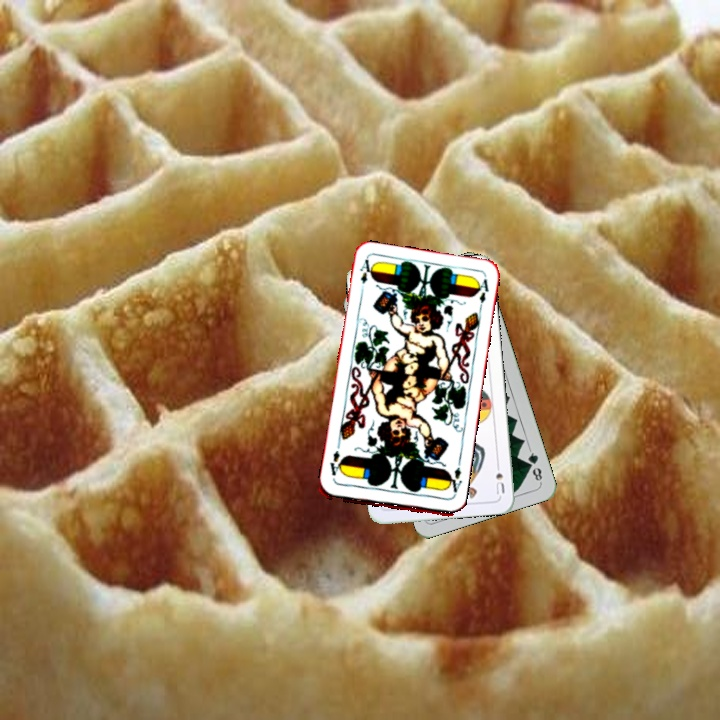EA: (443, 460, 464, 501), (356, 256, 374, 296)
G8: (524, 446, 545, 485)
SU: (491, 457, 507, 497)
